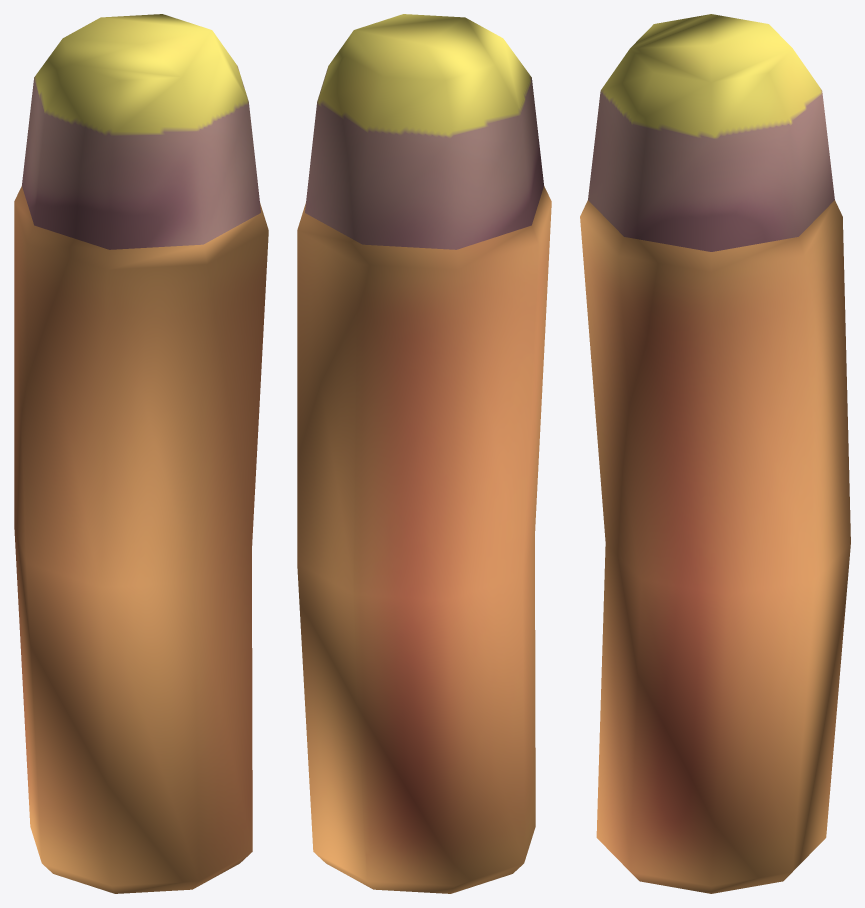
Rendered from Cig_Used.fbx.
3 renders of one model, left to right at view 1: azimuth 30°, elevation 25°; view 2: azimuth 150°, elevation 25°; view 3: azimuth 270°, elevation 25°, orthographic.
Parts seen in each view (by area): view 1: Cig_Used; view 2: Cig_Used; view 3: Cig_Used.
Part boxes in pixels (bbox=[...]): Cig_Used: bbox=[14, 14, 268, 893]; Cig_Used: bbox=[297, 14, 551, 893]; Cig_Used: bbox=[580, 14, 850, 893].
Size of the model in its own units: 124 by 418 by 127.
